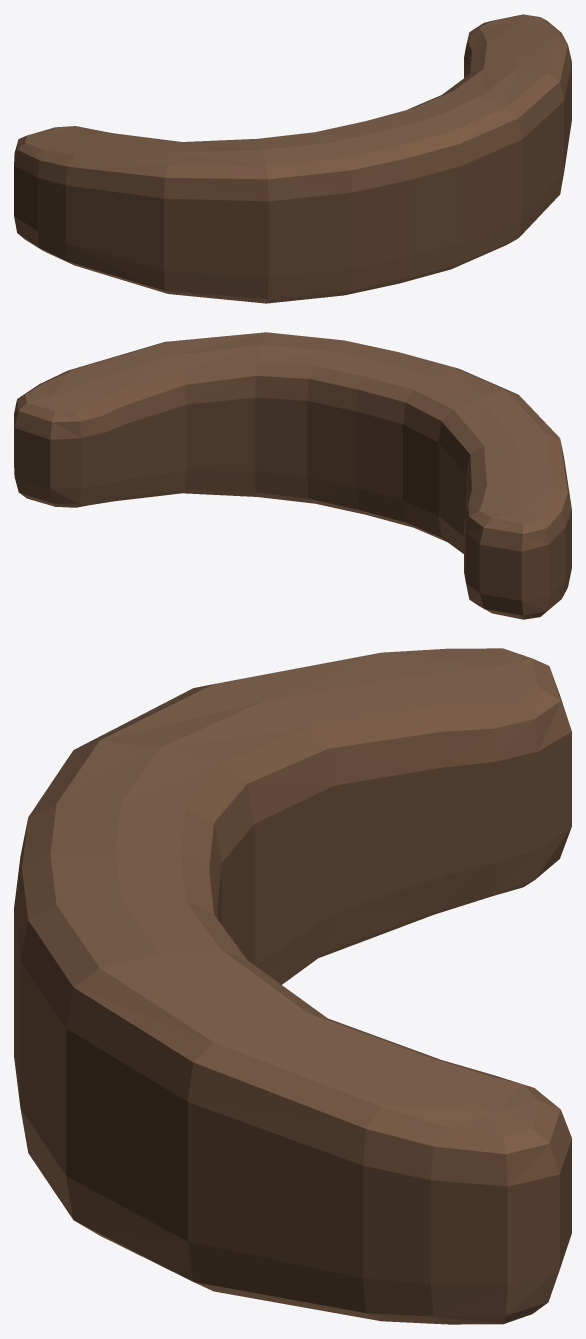
The model's file is repeatingCrossbowDefaultHandle.glb.
3 views of the same model, one above another, from view 1: azimuth 30°, elevation 25°; view 2: azimuth 150°, elevation 25°; view 3: azimuth 270°, elevation 25° (orthographic). The views are drawn at different scales.
Parts seen in each view (by area): view 1: repeatingCrossbowDefaultHandle; view 2: repeatingCrossbowDefaultHandle; view 3: repeatingCrossbowDefaultHandle.
Boxes of the visible parts, left/top/right/bottom form: repeatingCrossbowDefaultHandle: left=14, top=14, right=571, bottom=303; repeatingCrossbowDefaultHandle: left=14, top=332, right=571, bottom=619; repeatingCrossbowDefaultHandle: left=14, top=648, right=571, bottom=1324.
Bounding box in the file's own units: 0.1564 × 0.0399 × 0.0728.
